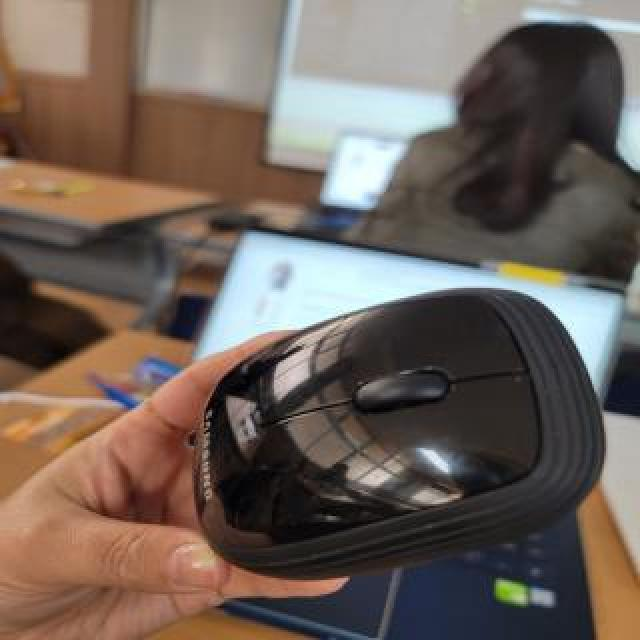mouse: (208, 323, 597, 550)
